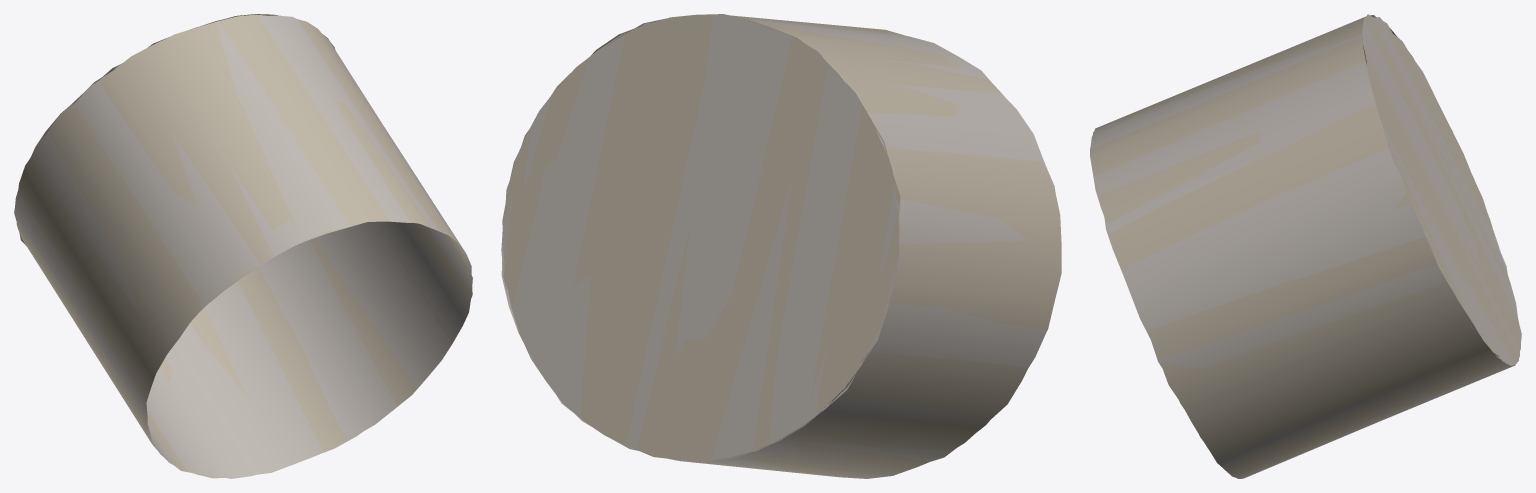
The model's file is original_16.obj.
The picture shows the model from 3 angles, left to right: view 1: azimuth 30°, elevation 25°; view 2: azimuth 150°, elevation 25°; view 3: azimuth 270°, elevation 25°; orthographic projection. The views are drawn at different scales.
Visible parts, largest first — view 1: #ID331; view 2: #ID331; view 3: #ID331.
Part boxes in pixels (bbox=[...]): #ID331: bbox=[14, 14, 472, 478]; #ID331: bbox=[501, 14, 1061, 478]; #ID331: bbox=[1090, 14, 1521, 478].
Bounding box in the file's own units: 0.035 × 0.0432 × 0.0397.
2 materials, 1 textured.
